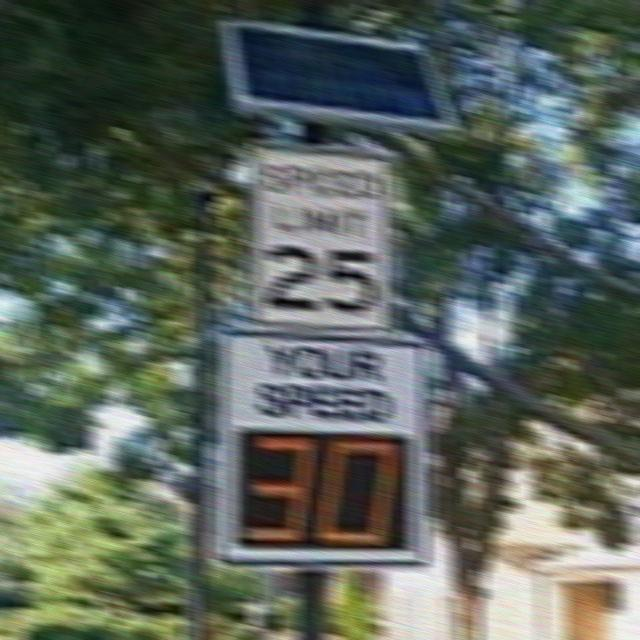speedLimit25: (248, 149, 381, 326)
